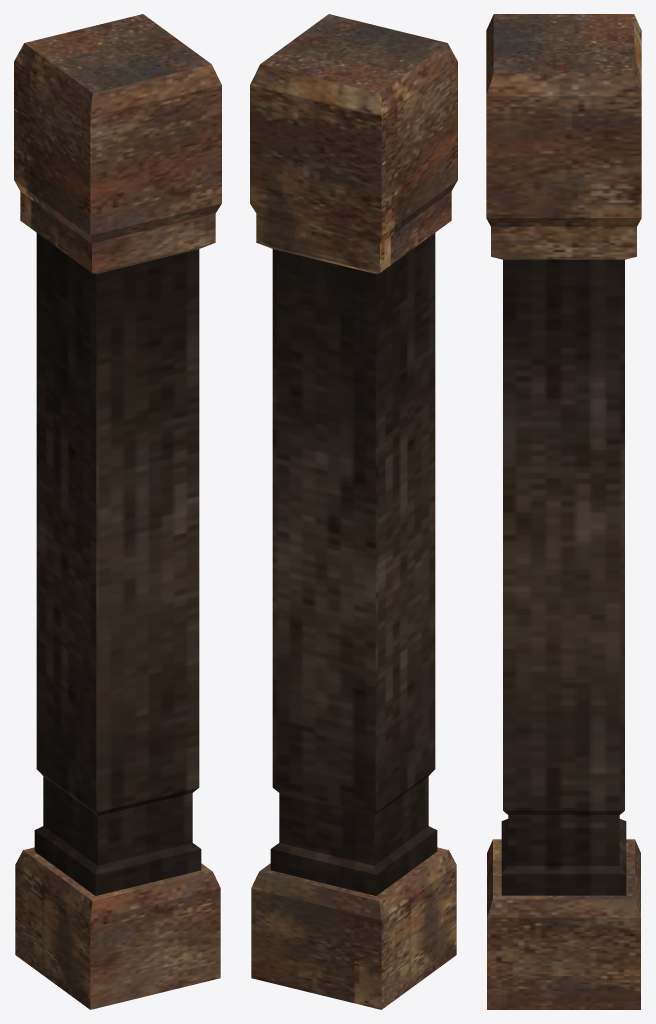
The model's file is Pilar.fbx.
The picture shows the model from 3 angles, left to right: view 1: azimuth 30°, elevation 25°; view 2: azimuth 150°, elevation 25°; view 3: azimuth 270°, elevation 25°; orthographic projection. The views are drawn at different scales.
Visible parts, largest first — view 1: pCube12; view 2: pCube12; view 3: pCube12.
Part boxes in pixels (box(x1,y1,x2,y2)): pCube12: box(14, 14, 221, 1009); pCube12: box(250, 14, 457, 1009); pCube12: box(486, 14, 641, 1009).
Size of the model in its own units: 39.8 by 264 by 39.8.
